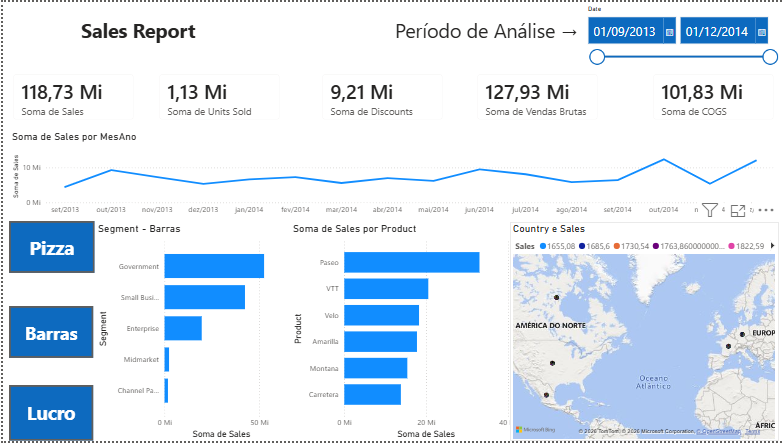

The dashboard page shown, as its layout file describes it:
{"tool":"powerbi","page":{"name":"Sales Report","canvas":[1280,720],"ordinal":3},"visuals":[{"type":"textbox","box":[11.1,20,420,82.2],"z":0},{"type":"cardVisual","fields":{"Data":["Sum(financials. Sales)"]},"box":[0,102.2,231.2,108.3],"z":1000},{"type":"cardVisual","fields":{"Data":["Sum(financials.Units Sold)"]},"box":[240,102.2,231.2,108.3],"z":2000},{"type":"cardVisual","fields":{"Data":["Sum(financials.Discounts)"]},"box":[506.7,102.2,231.2,108.3],"z":3000},{"type":"cardVisual","fields":{"Data":["Sum(financials.Vendas Brutas)"]},"box":[760,102.2,231.2,108.3],"z":4000},{"type":"cardVisual","fields":{"Data":["Sum(financials.COGS)"]},"box":[1048.9,102.2,231.2,108.3],"z":5000},{"type":"slicer","fields":{"Values":["financials.Date"]},"box":[946.7,0,333.3,102.2],"z":6000},{"type":"lineChart","fields":{"Category":["financials.MesAno"],"Y":["Sum(financials. Sales)"]},"box":[10.6,210.6,1259.6,148.9],"z":7000},{"type":"clusteredBarChart","title":"Segment - Barras","fields":{"Category":["financials.Segment"],"Y":["Sum(financials. Sales)"]},"box":[150.7,360,320.5,360],"z":8000},{"type":"clusteredBarChart","fields":{"Category":["financials.Product"],"Y":["Sum(financials. Sales)"]},"box":[471.2,360,377.6,360],"z":9000},{"type":"map","fields":{"Category":["financials.Country"],"Series":["financials. Sales"]},"box":[831.2,360,440.5,360],"z":10000},{"type":"actionButton","box":[10.6,497.9,138.3,85.1],"z":12000},{"type":"actionButton","box":[10.6,359.6,140.4,85.1],"z":13000},{"type":"actionButton","box":[10.6,627.7,138.3,91.5],"z":14000},{"type":"textbox","box":[506.7,20,440,64.4],"z":14001}]}

Visuals, with their boxes in screenshot pixels (x1, y1, x2, y2), scaled from the page's 1280x720 canvas onto the 783x443 screenshot:
textbox: <bbox>7, 12, 264, 63</bbox>
cardVisual - Sum(financials. Sales): <bbox>0, 63, 141, 130</bbox>
cardVisual - Sum(financials.Units Sold): <bbox>147, 63, 288, 130</bbox>
cardVisual - Sum(financials.Discounts): <bbox>310, 63, 451, 130</bbox>
cardVisual - Sum(financials.Vendas Brutas): <bbox>465, 63, 606, 130</bbox>
cardVisual - Sum(financials.COGS): <bbox>642, 63, 782, 130</bbox>
slicer - financials.Date: <bbox>579, 0, 782, 63</bbox>
lineChart - financials.MesAno x Sum(financials. Sales): <bbox>6, 130, 777, 221</bbox>
"Segment - Barras" clusteredBarChart: <bbox>92, 222, 288, 442</bbox>
clusteredBarChart - financials.Product x Sum(financials. Sales): <bbox>288, 222, 519, 442</bbox>
map - financials.Country x financials. Sales: <bbox>508, 222, 778, 442</bbox>
actionButton: <bbox>6, 306, 91, 359</bbox>
actionButton: <bbox>6, 221, 92, 274</bbox>
actionButton: <bbox>6, 386, 91, 442</bbox>
textbox: <bbox>310, 12, 579, 52</bbox>
